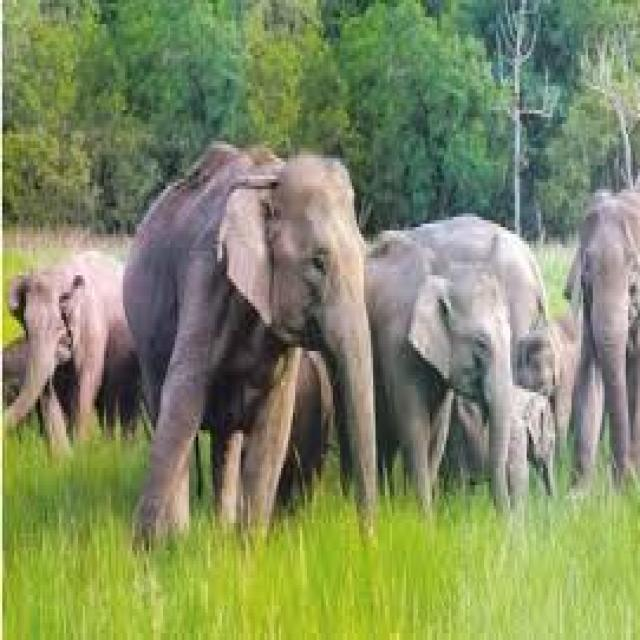Elephant: (132, 134, 386, 558), (374, 223, 520, 530), (8, 234, 131, 466), (559, 182, 640, 488)
